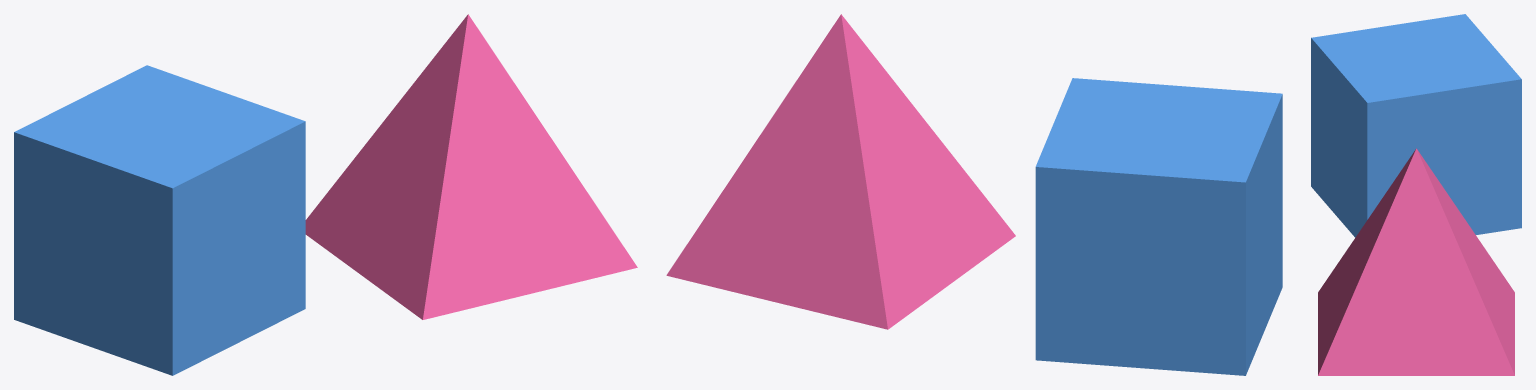
File: sample-scene.glb
The picture shows the model from 3 angles, left to right: view 1: azimuth 30°, elevation 25°; view 2: azimuth 150°, elevation 25°; view 3: azimuth 270°, elevation 25°; orthographic projection. The views are drawn at different scales.
Visible parts, largest first — view 1: Blue Cube, Pink Pyramid; view 2: Blue Cube, Pink Pyramid; view 3: Blue Cube, Pink Pyramid.
Part boxes in pixels (x1,y1,x2,y2): Blue Cube: (14,65,305,375); Pink Pyramid: (305,14,637,319); Blue Cube: (1035,78,1282,375); Pink Pyramid: (666,14,1015,329); Blue Cube: (1311,14,1521,237); Pink Pyramid: (1318,148,1514,375).
Size of the model in its own units: 2.96 by 1.25 by 1.28.
